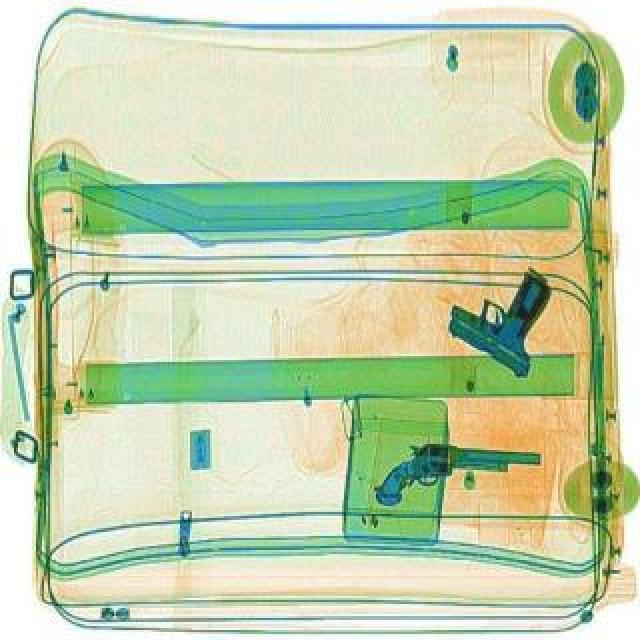gun: (438, 248, 582, 378), (374, 434, 542, 514)
